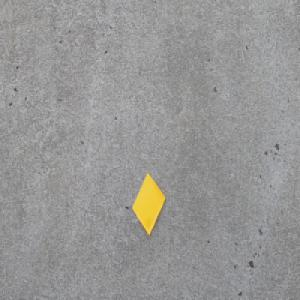PlasticPart: (131, 171, 165, 236)
